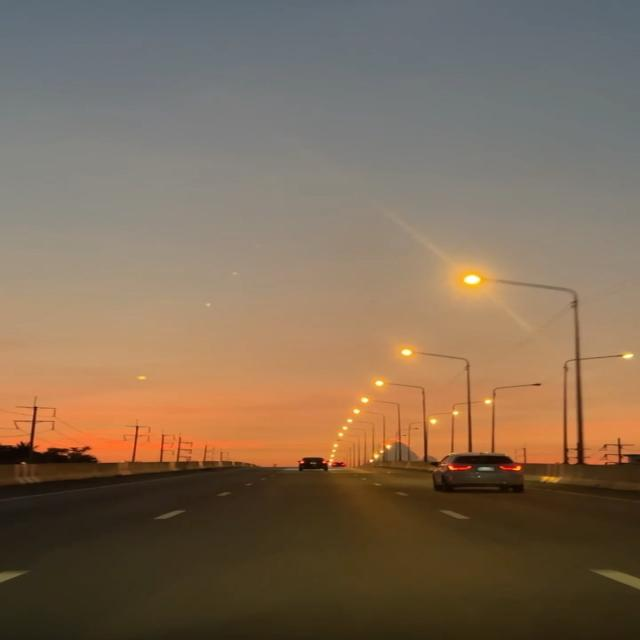Poth-hole: (98, 487, 548, 610)
